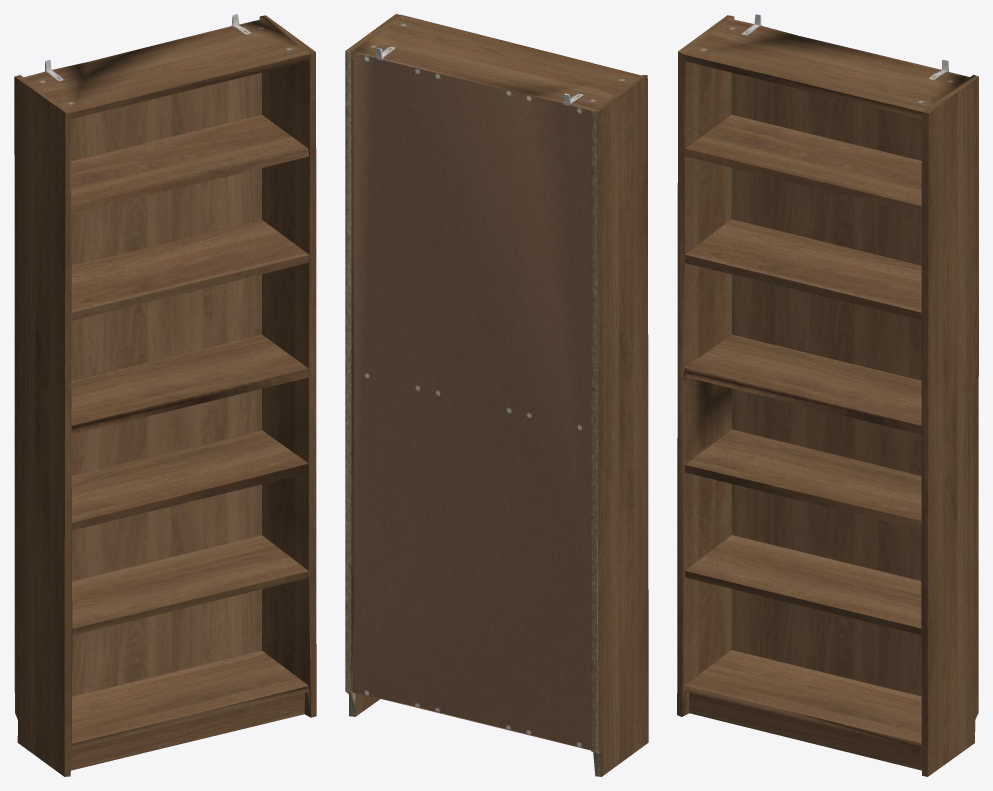
File: 01 - BILLY Bookcase - brown walnut effect 80x28x202 cm.glb
3 views of the same model, side by side, from view 1: azimuth 30°, elevation 25°; view 2: azimuth 150°, elevation 25°; view 3: azimuth 330°, elevation 25° (orthographic).
Parts seen in each view (by area): view 1: 50508652-BILLY001; view 2: 50508652-BILLY001; view 3: 50508652-BILLY001.
Part boxes in pixels (x1,y1,x2,y2): 50508652-BILLY001: [14, 14, 316, 776]; 50508652-BILLY001: [345, 14, 648, 776]; 50508652-BILLY001: [677, 14, 978, 776].
Size of the model in its own units: 0.8012 by 2.05 by 0.2841.
1 material, 1 textured.
